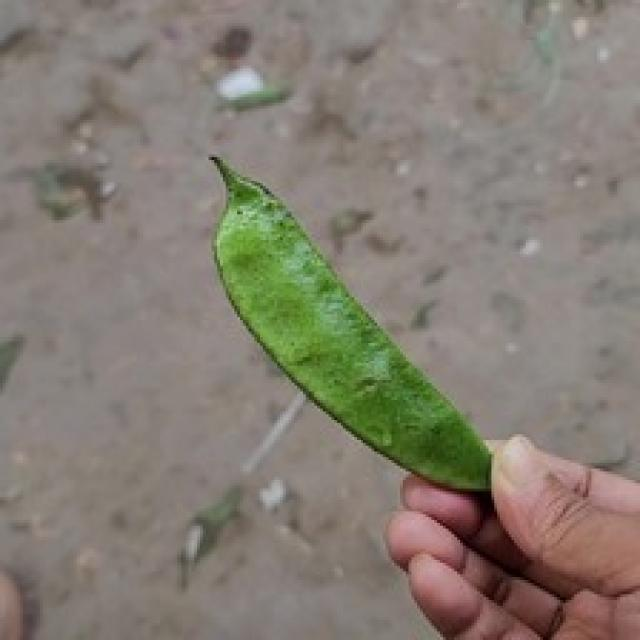Bean: (200, 137, 487, 494)
